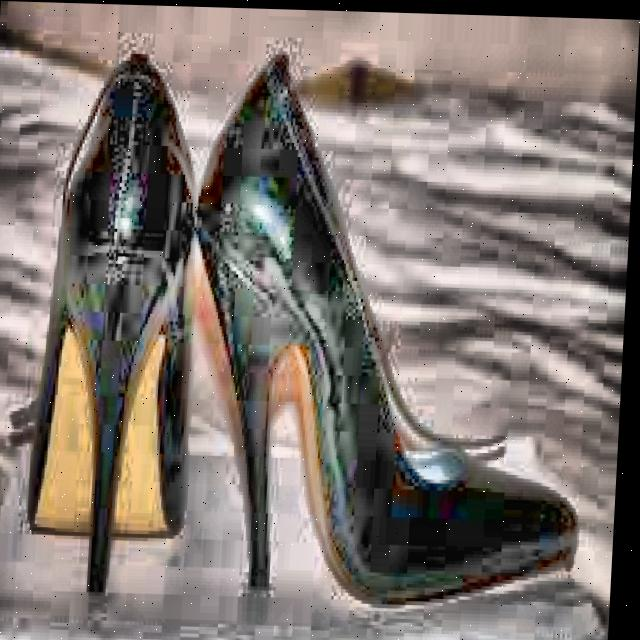shoes: (17, 35, 609, 608)
